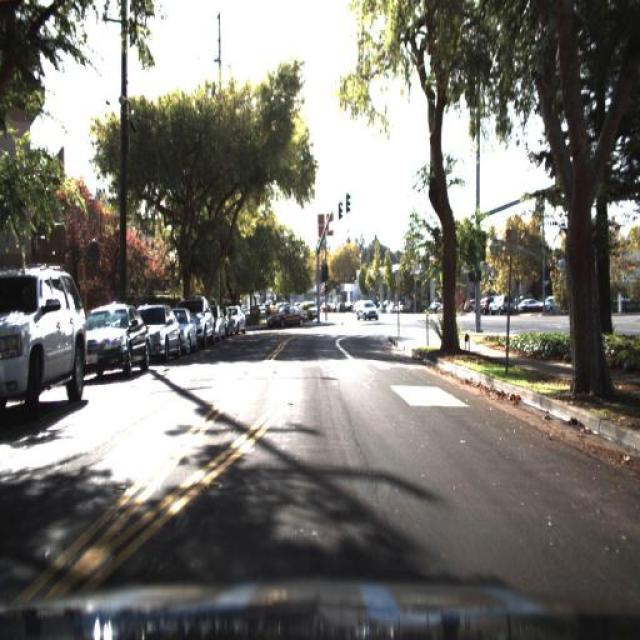car: (1, 264, 88, 415), (84, 291, 152, 381), (146, 300, 182, 370), (258, 302, 312, 341), (192, 297, 214, 347), (178, 304, 198, 351), (485, 292, 519, 317), (350, 296, 380, 323), (515, 293, 549, 316), (540, 292, 569, 316), (488, 290, 516, 314), (470, 295, 494, 321), (302, 300, 319, 320)
